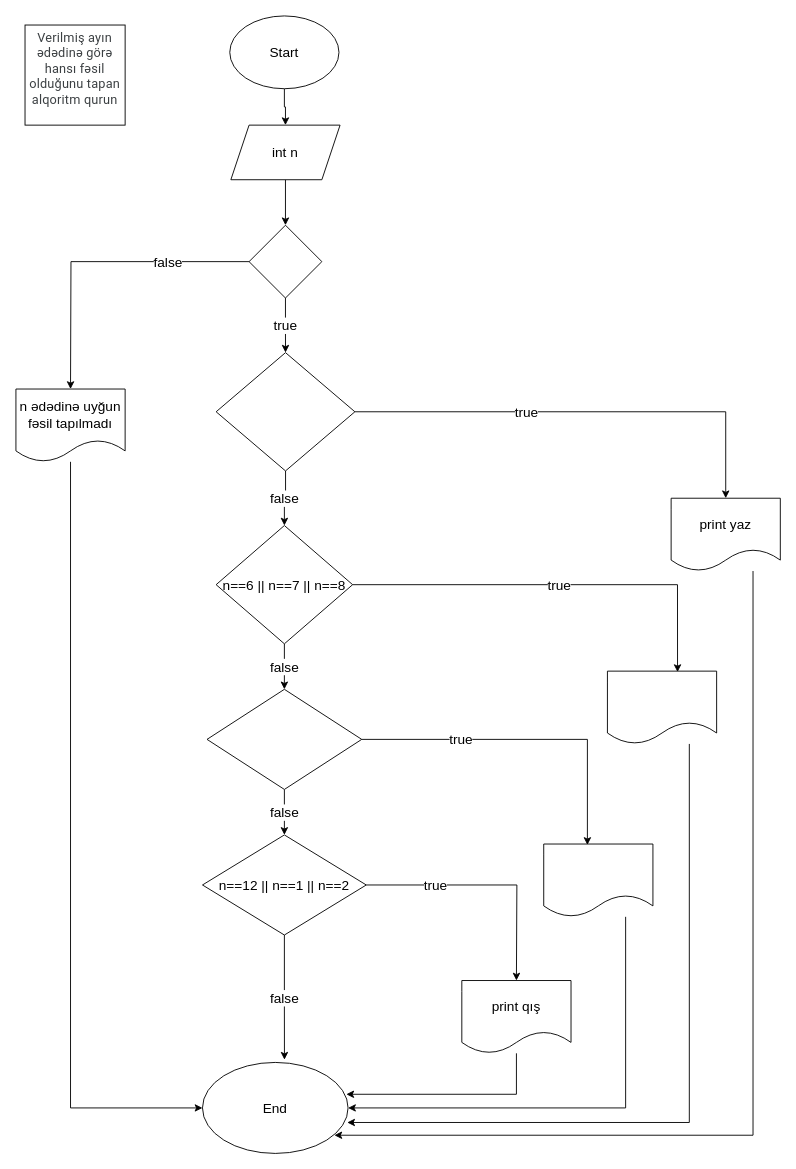
This 796x1169 diagram has some shape labels left out. Here are the shapes that lost their labels. From the top down, the centre of each, then its label:
At pixel 285 261: "n>0 && n<=12".
At pixel 285 411: "n==3 || n==4 || n==5".
At pixel 662 707: "print yay".
At pixel 284 738: "n==9 || n==10 || n==11".
At pixel 598 880: "print payız".
